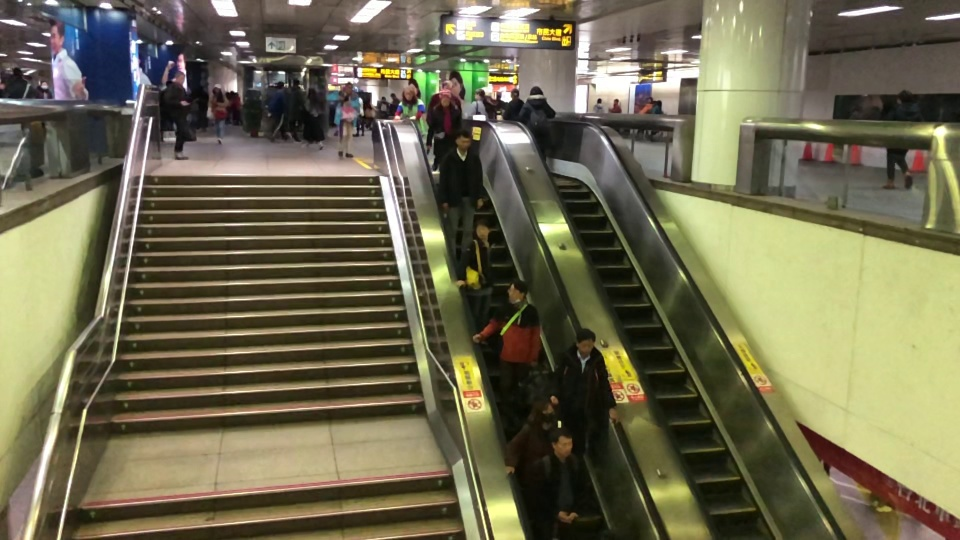person_head: (550, 430, 574, 459), (573, 328, 596, 357), (506, 280, 527, 305), (437, 89, 452, 109), (542, 395, 558, 413), (455, 132, 470, 149), (895, 89, 910, 105), (406, 79, 421, 94), (400, 88, 414, 104), (528, 86, 544, 98), (174, 70, 186, 85), (437, 79, 451, 91), (306, 86, 318, 99), (473, 89, 485, 101), (210, 83, 223, 94), (341, 82, 353, 93), (508, 89, 520, 100), (291, 79, 301, 89), (274, 80, 283, 91), (594, 97, 603, 106), (612, 96, 619, 107), (493, 92, 501, 101), (645, 97, 652, 106), (655, 97, 661, 107)
person_vbox: (519, 430, 612, 540), (471, 280, 542, 421), (548, 328, 618, 464), (436, 131, 487, 289), (501, 395, 581, 483), (881, 89, 917, 193), (157, 69, 191, 163), (525, 84, 560, 175), (431, 78, 460, 171), (430, 90, 459, 172), (203, 82, 232, 147), (334, 83, 359, 158), (393, 87, 426, 136), (302, 85, 326, 151), (268, 80, 290, 141), (406, 78, 424, 138), (286, 79, 302, 142), (469, 89, 488, 121), (505, 88, 523, 121), (635, 95, 654, 118), (490, 90, 503, 117), (589, 95, 606, 115), (651, 96, 664, 117), (607, 96, 619, 116)
